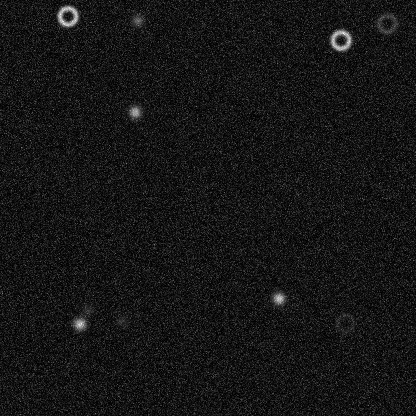Ring: (332, 311, 356, 335), (328, 28, 352, 52), (55, 4, 79, 28), (374, 11, 398, 35)
Spot: (71, 315, 87, 331), (270, 290, 286, 306), (114, 312, 130, 328), (129, 12, 145, 28), (126, 103, 142, 119), (79, 302, 95, 318)
